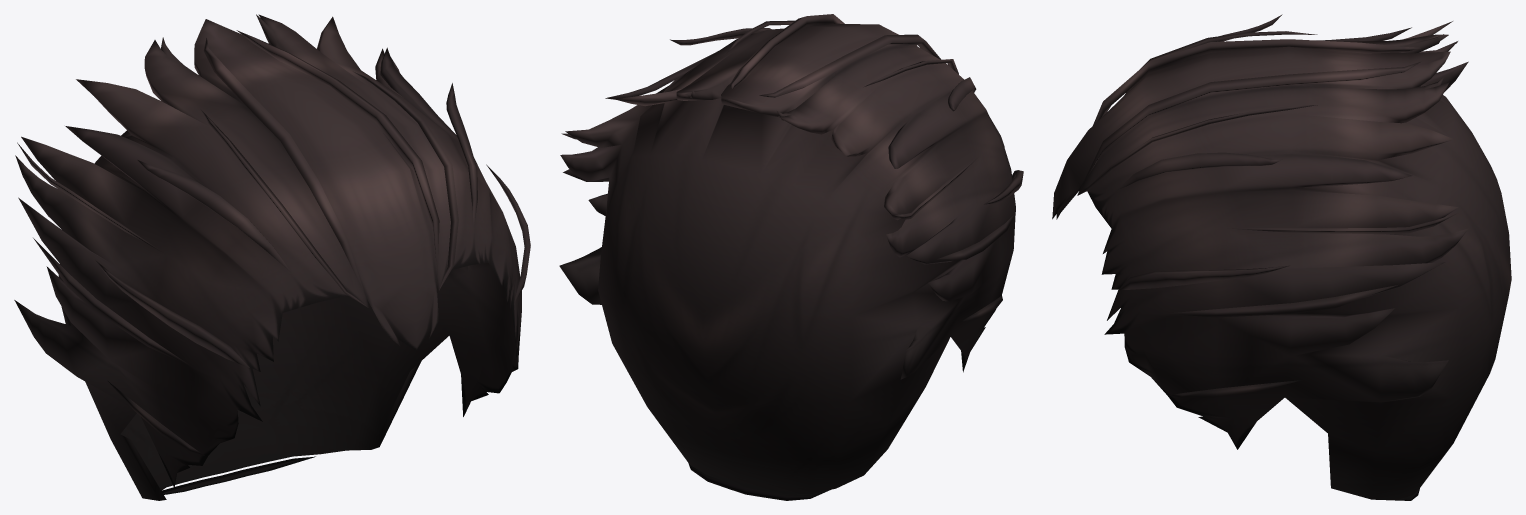
File: NP_OlderMan.fbx
3 renders of one model, left to right at view 1: azimuth 30°, elevation 25°; view 2: azimuth 150°, elevation 25°; view 3: azimuth 270°, elevation 25°, orthographic. The views are drawn at different scales.
Visible parts, largest first — view 1: NP_OlderMan; view 2: NP_OlderMan; view 3: NP_OlderMan.
Boxes of the visible parts, bbox=[...] form: NP_OlderMan: bbox=[14, 14, 530, 500]; NP_OlderMan: bbox=[559, 14, 1023, 500]; NP_OlderMan: bbox=[1052, 14, 1511, 500].
Bounding box in the file's own units: 21.12 × 22.63 × 22.14.
